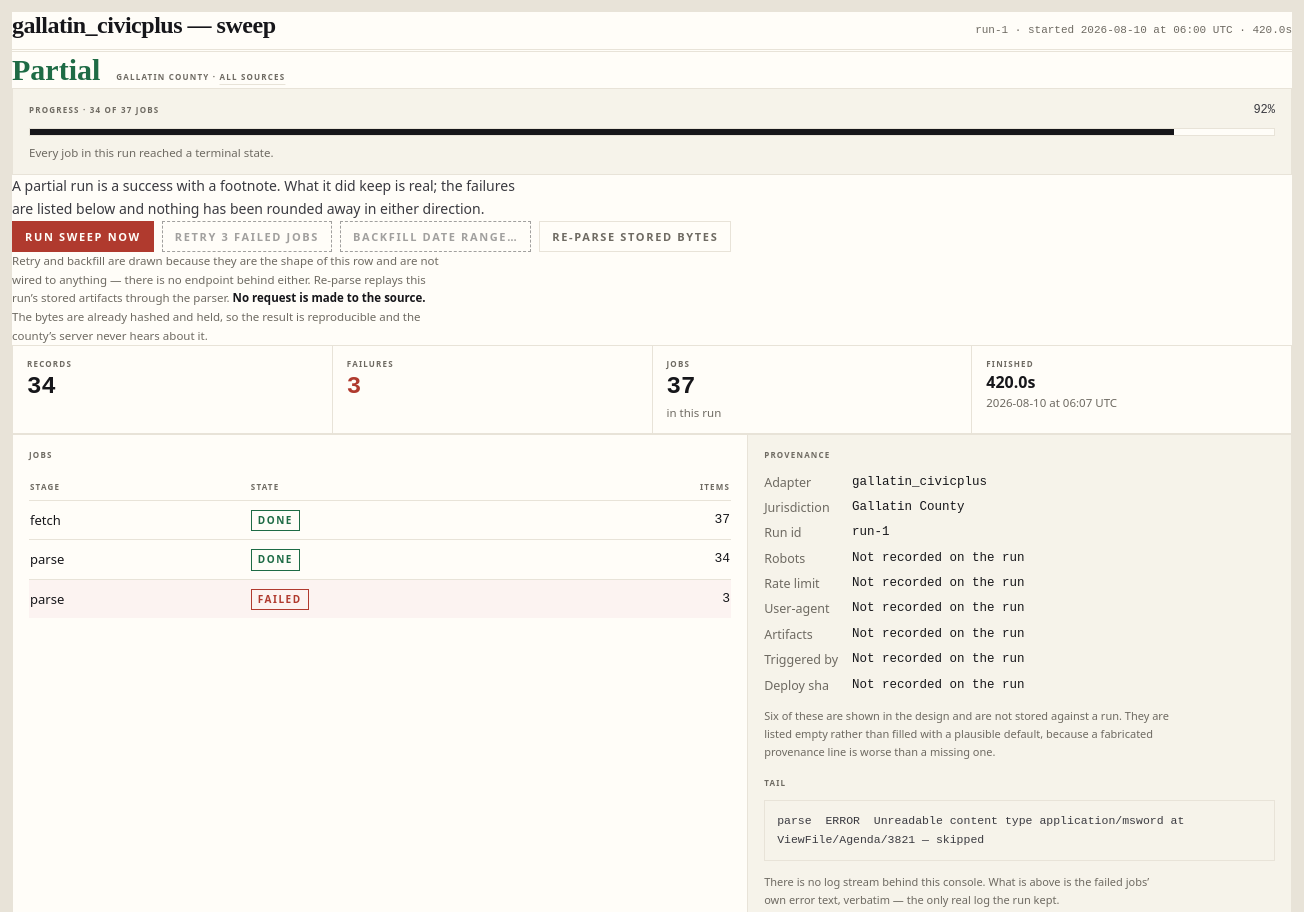
Test case: AdminRunDetailPage › re-parses stored bytes, reports the enqueued count, and says no source is contacted
Expected: the text "Partial" is shown, top-left (12, 52), bottom-right (100, 88)
Expected: the text "No request is made to the source." is shown, top-left (233, 290), bottom-right (426, 305)
Click the button "Re-parse stored bytes" at (635, 236), box top-left (539, 221), bottom-right (731, 252)
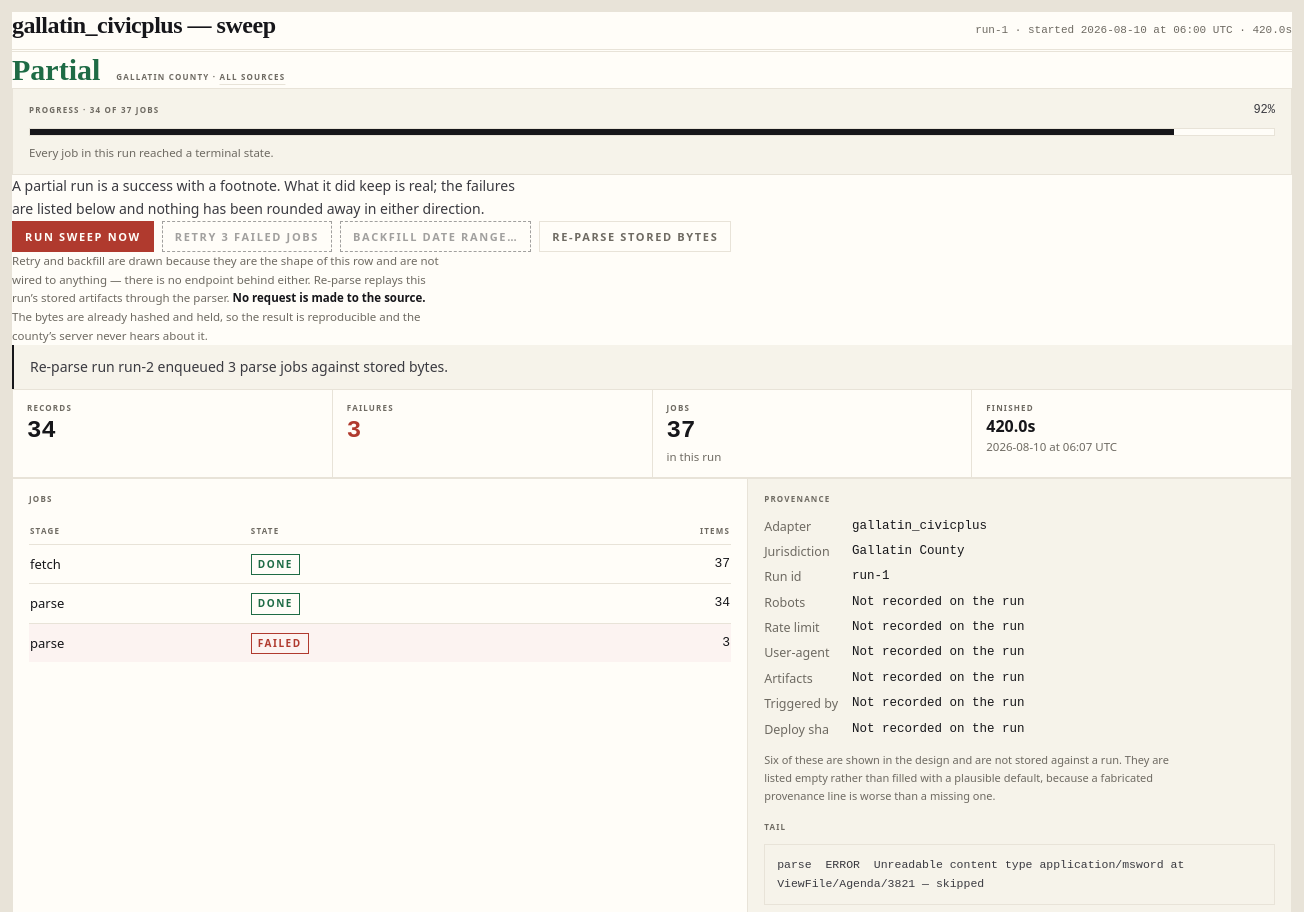
Expected: the text "run-1" is shown, top-left (852, 569), bottom-right (890, 583)
Result: the text "Re-parse run run-2 enqueued 3 parse jobs against stored bytes." is shown at top-left (12, 345), bottom-right (1292, 389)
